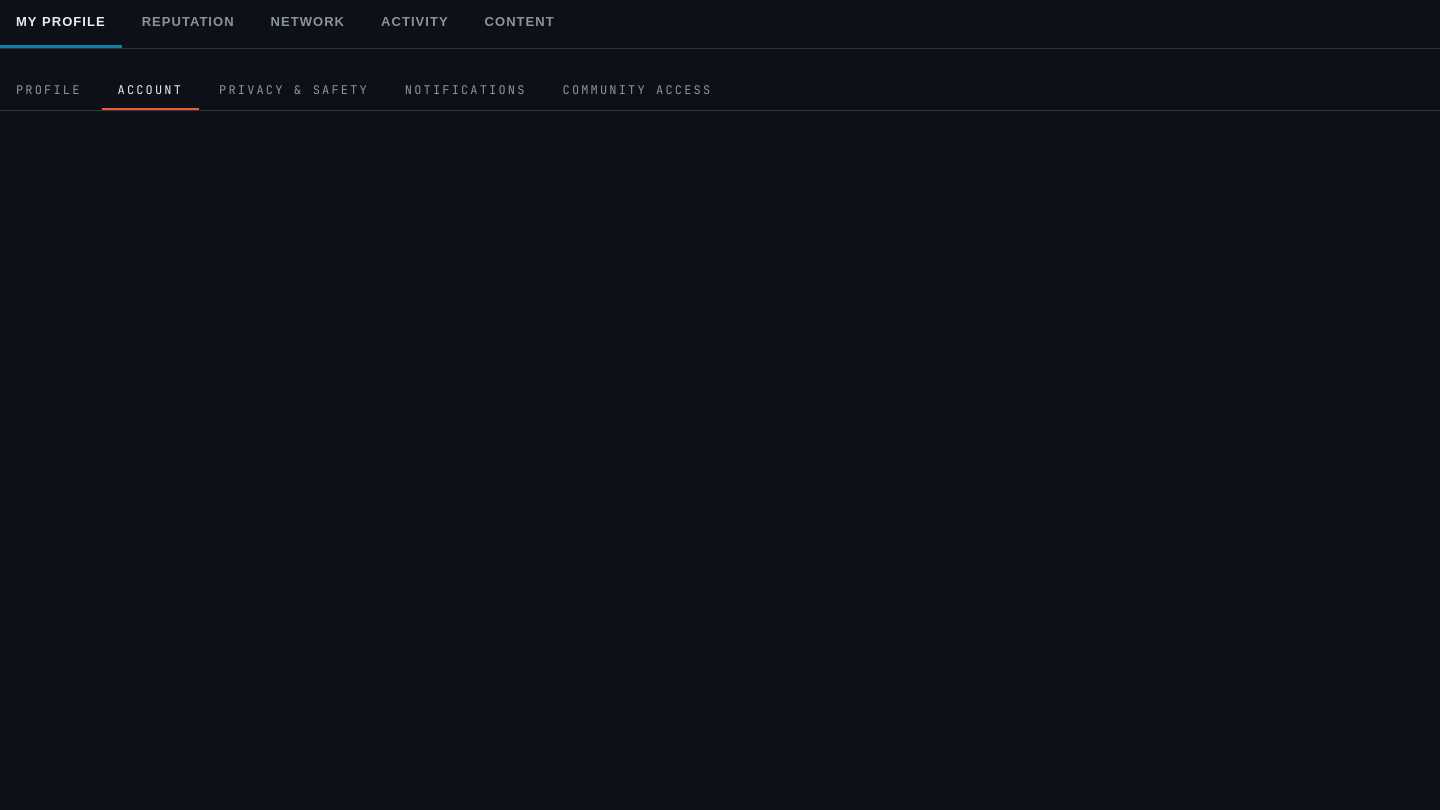
Scenario: a dirty form survives every top-level group move › dirty Account → account is guarded
This screenshot has width=1440, height=810.
Click the tab "Activity" at (415, 24), box [365, 0, 465, 48]
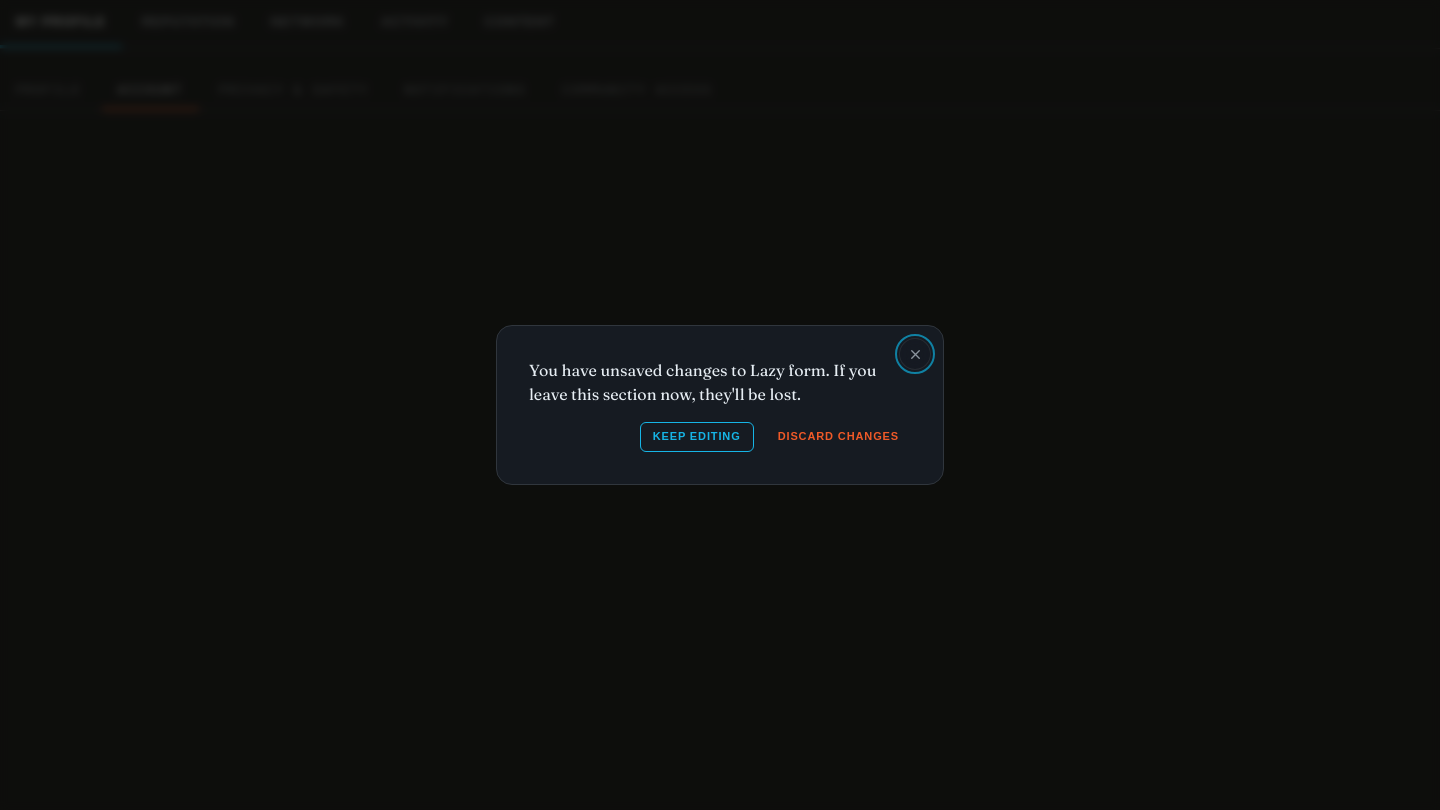
Expected: the dialog is shown
